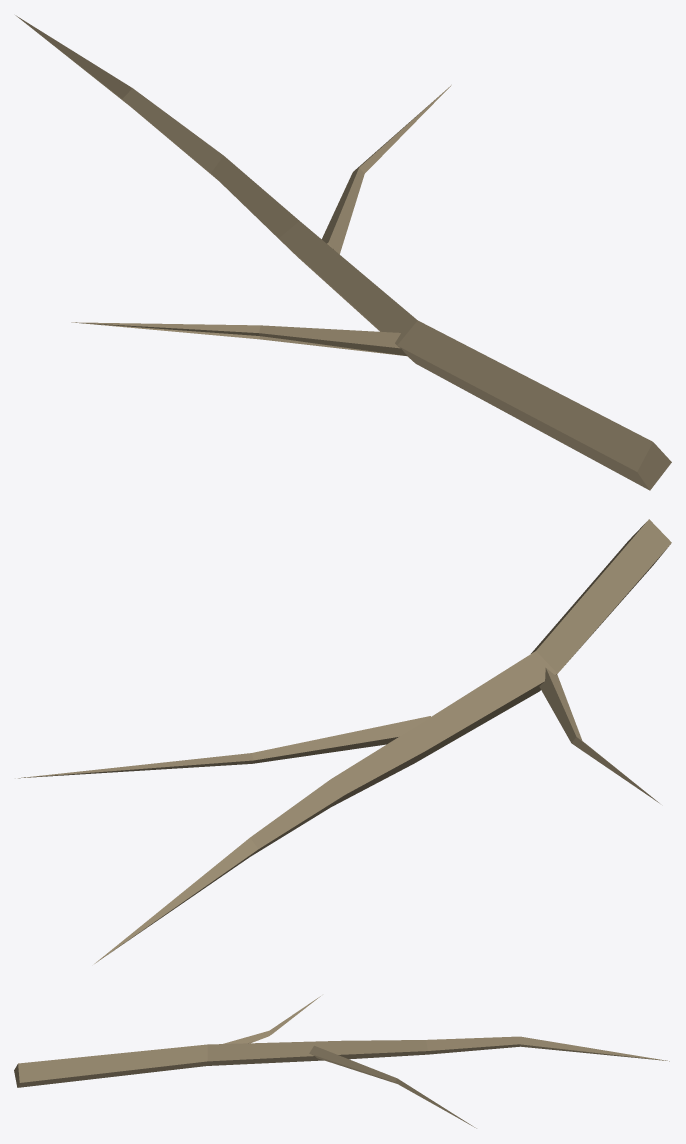
Rendered from EnvBranch.fbx.
3 views of the same model, one above another, from view 1: azimuth 30°, elevation 25°; view 2: azimuth 150°, elevation 25°; view 3: azimuth 270°, elevation 25° (orthographic). The views are drawn at different scales.
Visible parts, largest first — view 1: EnvBranch_1; view 2: EnvBranch_1; view 3: EnvBranch_1.
Boxes of the visible parts, bbox=[...] form: EnvBranch_1: bbox=[15, 15, 671, 490]; EnvBranch_1: bbox=[18, 519, 671, 963]; EnvBranch_1: bbox=[14, 996, 669, 1128].
Size of the model in its own units: 107 by 13.89 by 215.
